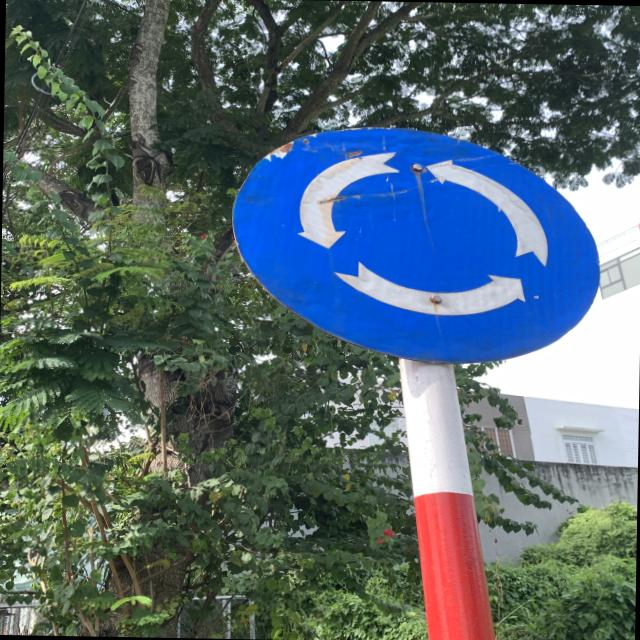Xe_Bus: (230, 122, 603, 365)
